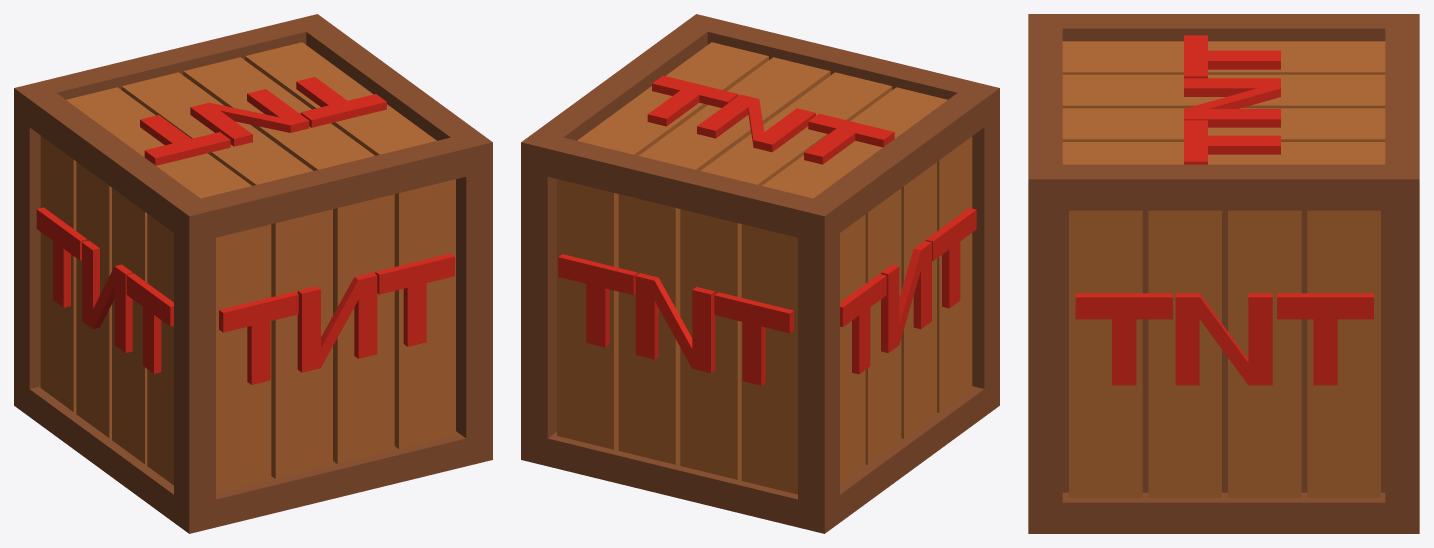
3 renders of one model, left to right at view 1: azimuth 30°, elevation 25°; view 2: azimuth 150°, elevation 25°; view 3: azimuth 270°, elevation 25°, orthographic. The views are drawn at different scales.
Visible parts, largest first — view 1: tnt; view 2: tnt; view 3: tnt.
Boxes of the visible parts, box(x1,y1,x2,y2) form: tnt: box(14, 14, 492, 533); tnt: box(521, 14, 999, 533); tnt: box(1028, 14, 1419, 533).
Bounding box in the file's own units: 99 × 99 × 99.
